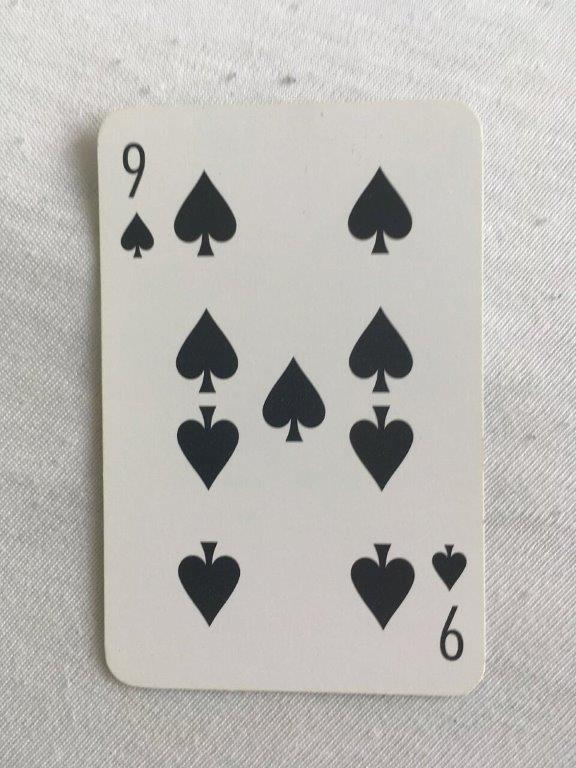9S: (93, 97, 490, 700)
